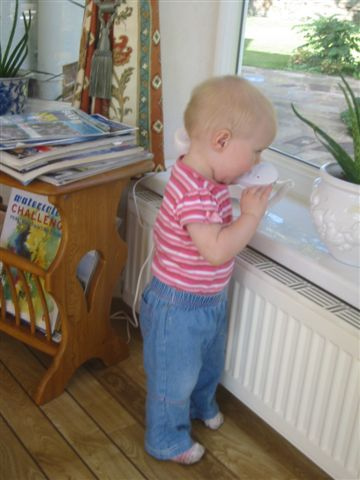person: (136, 74, 280, 467)
